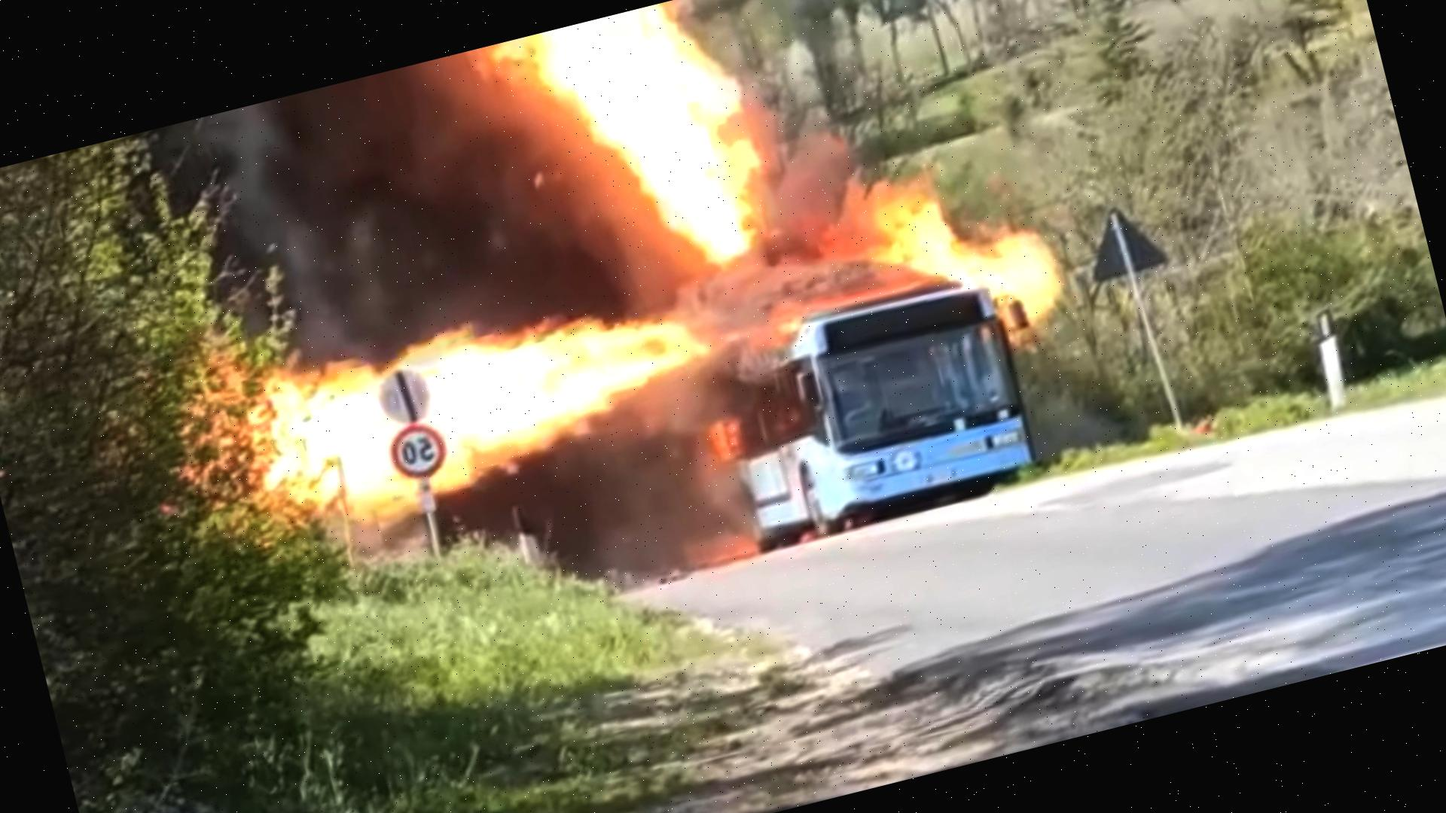fire: (561, 0, 788, 299)
smoke: (174, 65, 550, 380), (432, 381, 752, 640)
